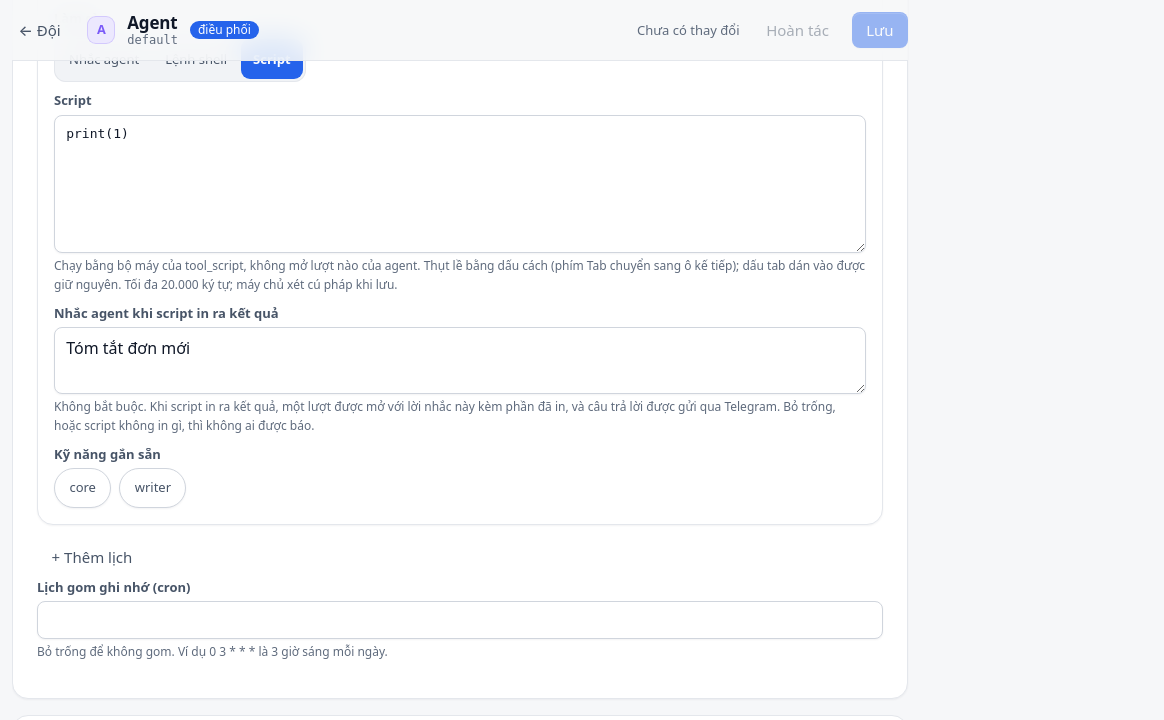
a schedule's script, written in the form › takes the prompt to follow out of the file when its box is emptied
(page scrolled)
Clear the text box labelled "Nhắc agent khi script in ra kết quả": (460, 361) left=54, top=327, right=866, bottom=394
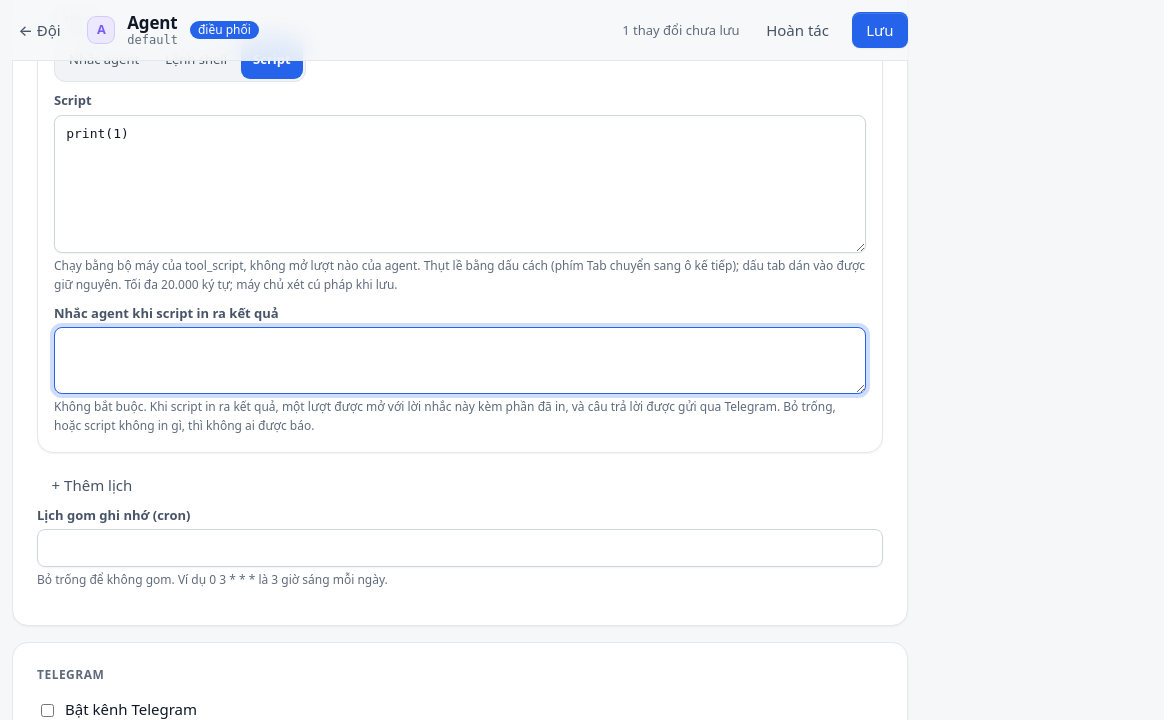
Click the button "Lưu": (880, 30) left=852, top=12, right=908, bottom=48
(page scrolled)
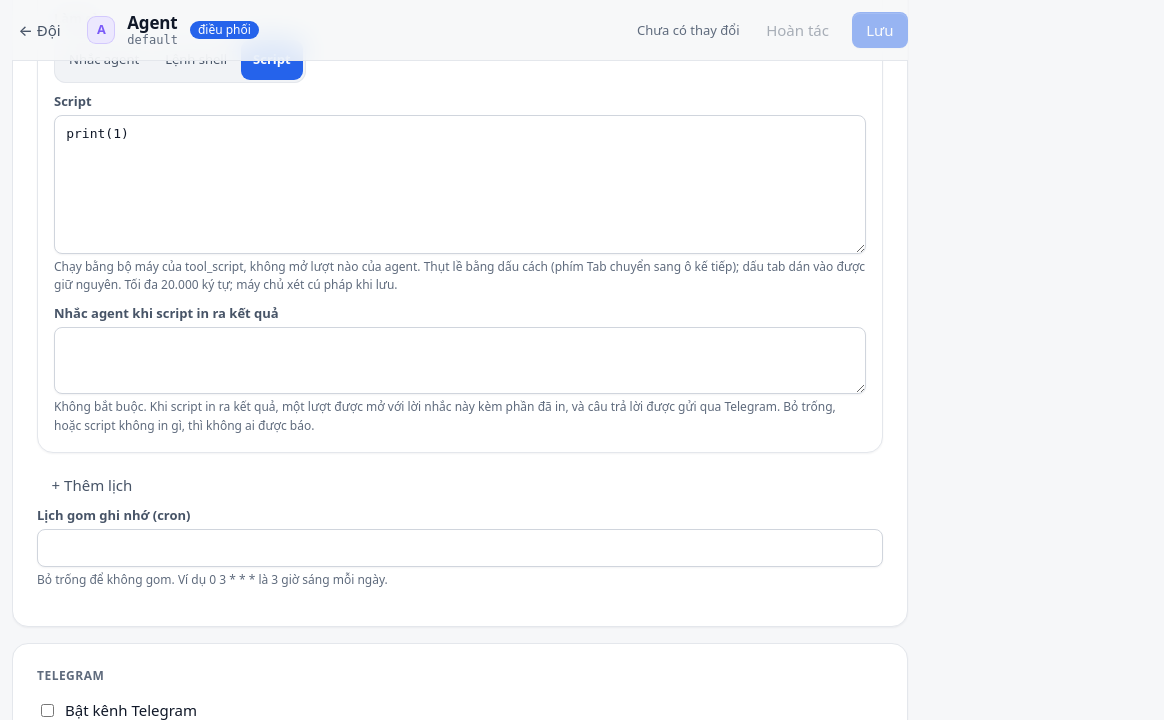
Check: the button "Lưu" is disabled, box left=852, top=12, right=908, bottom=48
